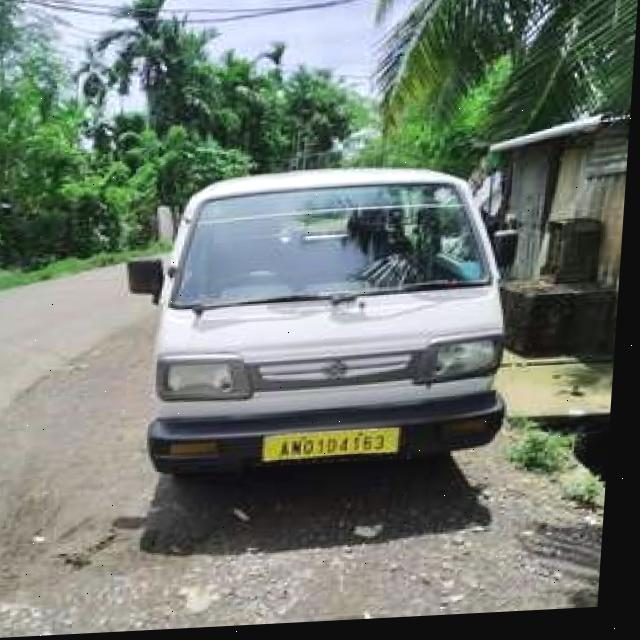plate: (268, 428, 408, 466)
